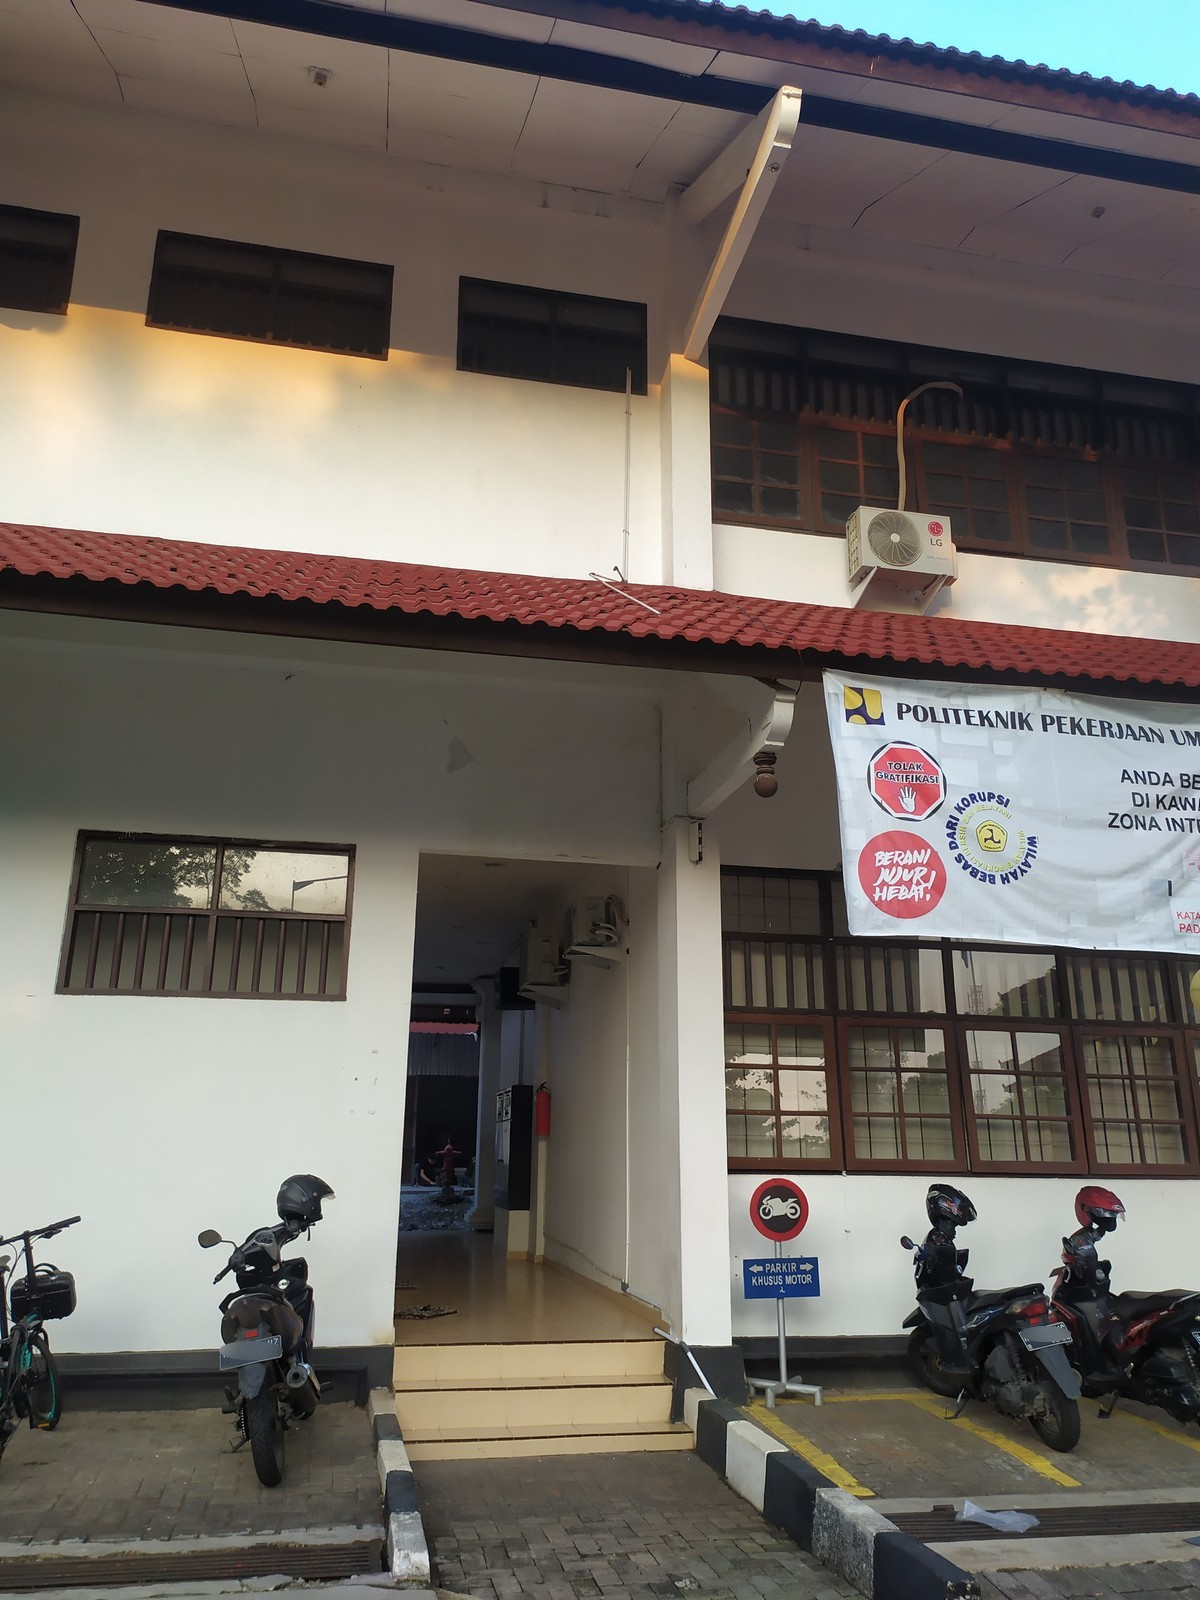concrete column: (655, 208, 729, 598)
